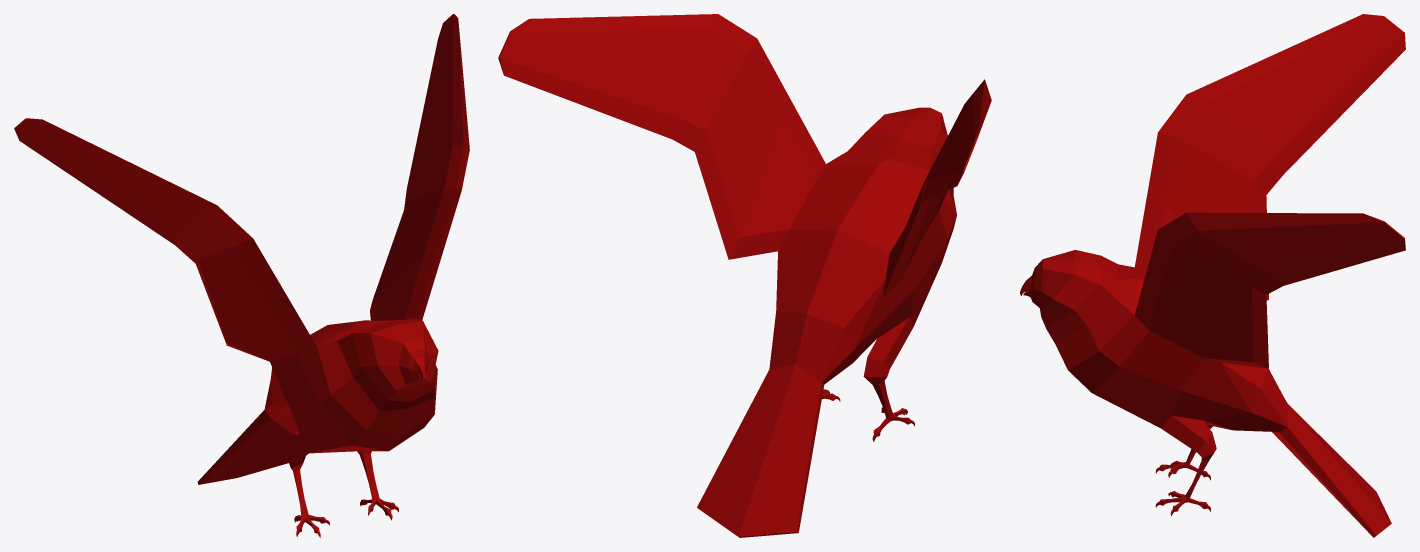
3 renders of one model, left to right at view 1: azimuth 30°, elevation 25°; view 2: azimuth 150°, elevation 25°; view 3: azimuth 270°, elevation 25°, orthographic. The views are drawn at different scales.
Parts seen in each view (by area): view 1: GLTF_created_0; view 2: GLTF_created_0; view 3: GLTF_created_0.
Part boxes in pixels (x1=…): GLTF_created_0: x1=14, y1=14, x2=469, y2=537; GLTF_created_0: x1=498, y1=14, x2=991, y2=537; GLTF_created_0: x1=1020, y1=14, x2=1405, y2=537.
Bounding box in the file's own units: 2.8 × 2.61 × 2.21.
